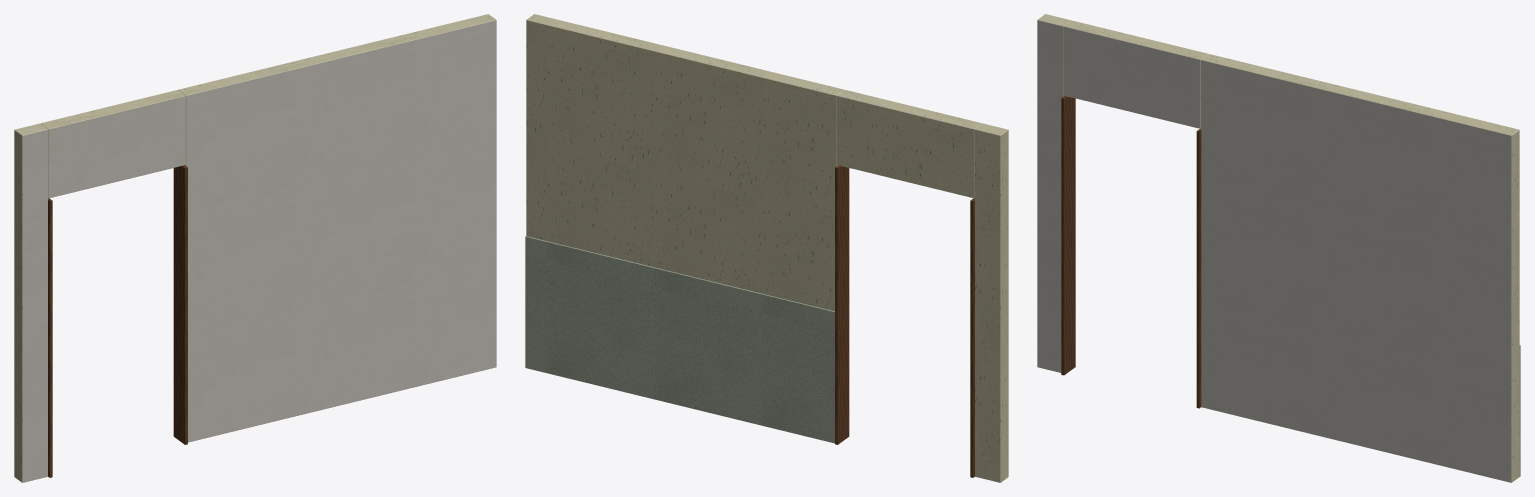
The model's file is bathroom_partition_4m_019_v3.glb.
3 views of the same model, side by side, from view 1: azimuth 30°, elevation 25°; view 2: azimuth 150°, elevation 25°; view 3: azimuth 330°, elevation 25° (orthographic).
Visible parts, largest first — view 1: INSTANCE__bathroom_partition_4m__019; view 2: INSTANCE__bathroom_partition_4m__019; view 3: INSTANCE__bathroom_partition_4m__019.
Boxes of the visible parts, left/top/right/bottom form: INSTANCE__bathroom_partition_4m__019: left=14, top=14, right=496, bottom=482; INSTANCE__bathroom_partition_4m__019: left=525, top=14, right=1008, bottom=482; INSTANCE__bathroom_partition_4m__019: left=1037, top=14, right=1520, bottom=482.
Size of the model in its own units: 4 by 2.8 by 0.17.
Materials: 4 (4 with a texture image).
